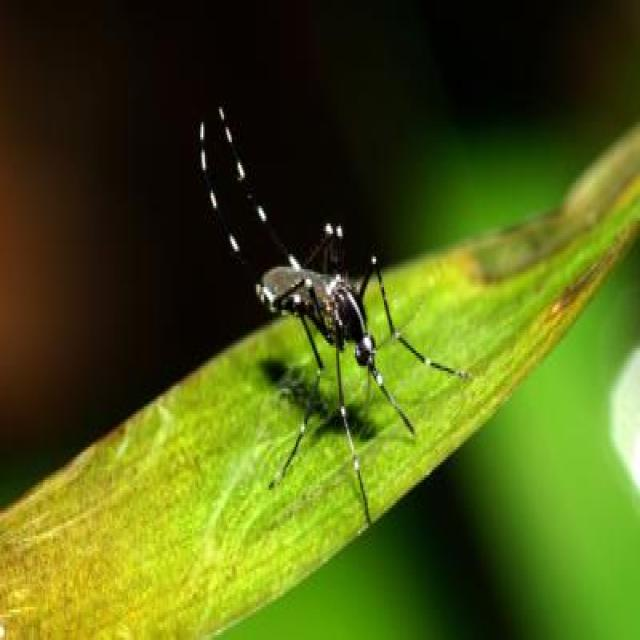body: (259, 264, 376, 368)
insect: (197, 104, 471, 534)
legs: (274, 319, 372, 527), (200, 106, 305, 280), (362, 249, 471, 378), (313, 214, 369, 279)
mouthpart: (367, 355, 422, 439)
wings: (262, 262, 333, 296)
